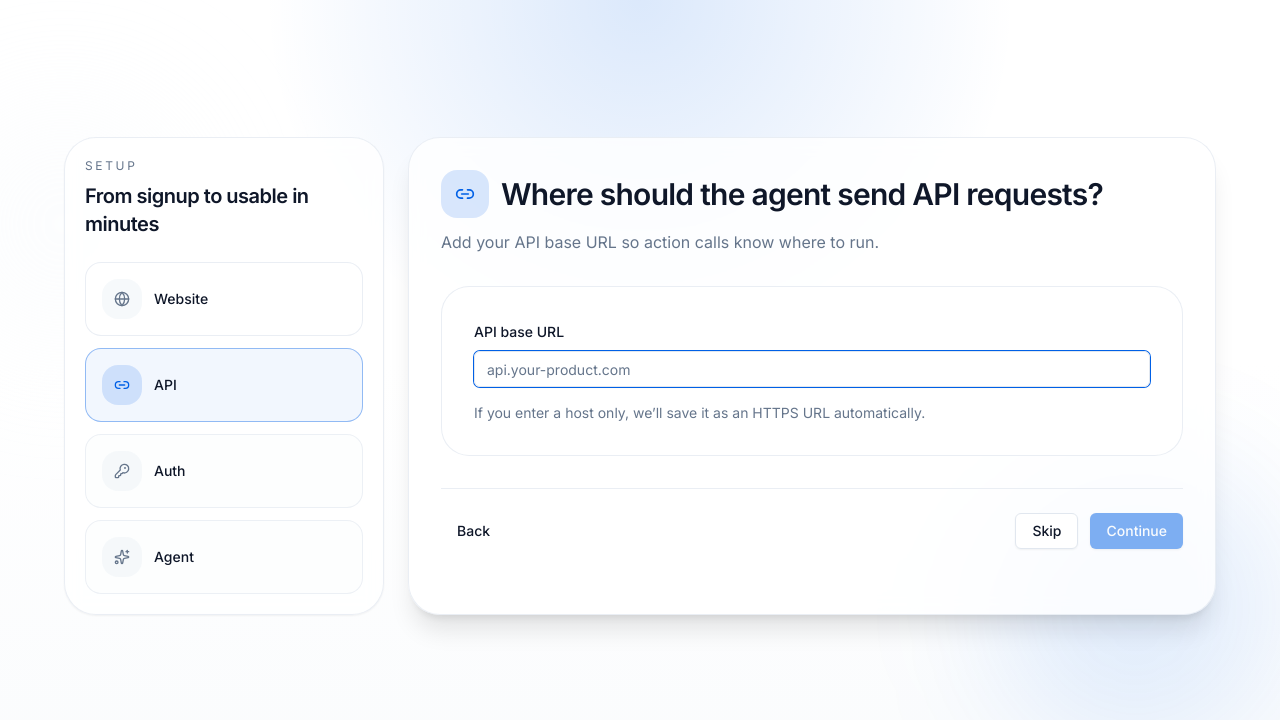
it: OnboardingGate › normalizes the production base URL before saving it
In the field with test id "onboarding-base-url-input": (812, 369) [474,351,1150,387], type "api.example.com"
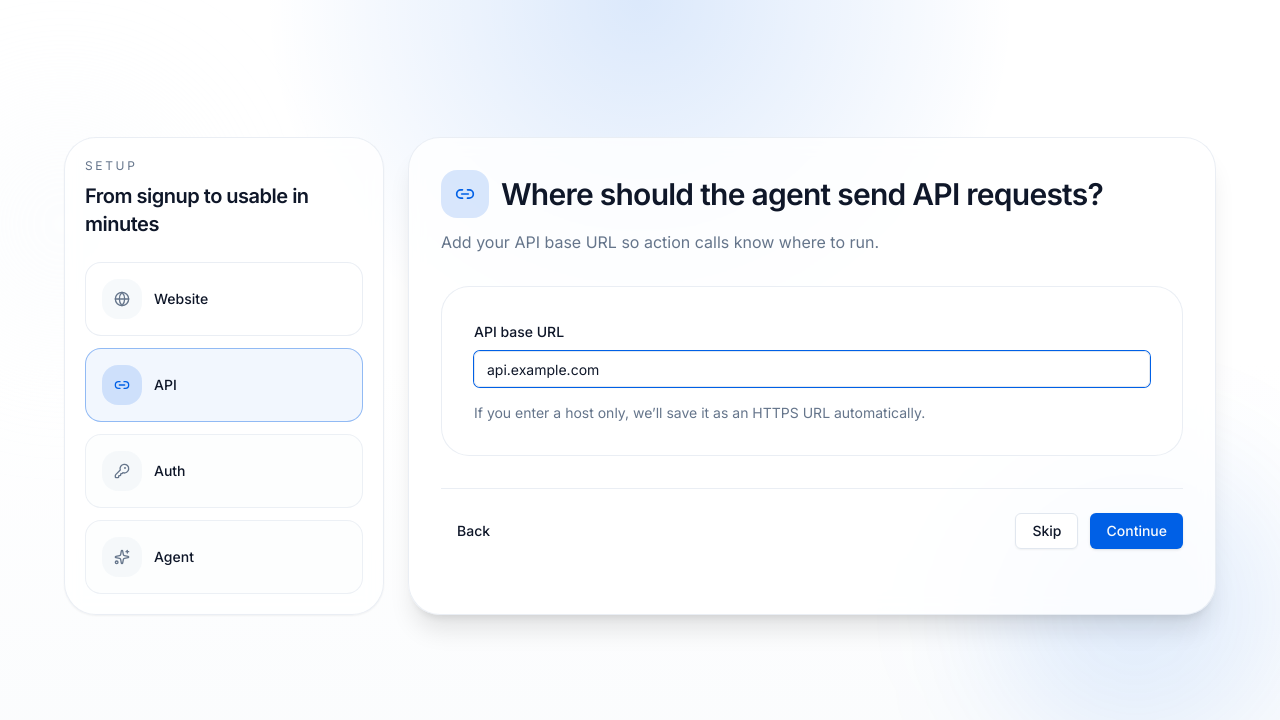
Click the button "Continue": (1137, 531) [1090,513,1183,549]
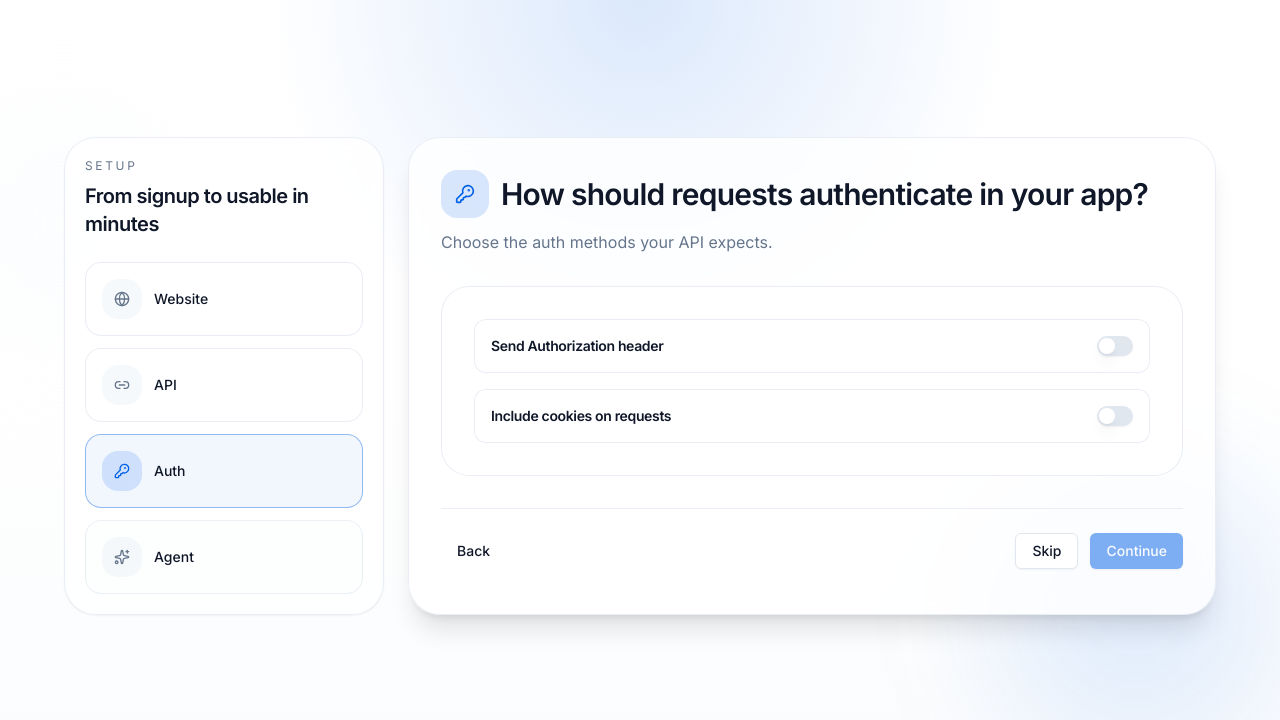
Check: the switch with test id "onboarding-auth-header-switch" is shown, box [1097,336,1133,356]
